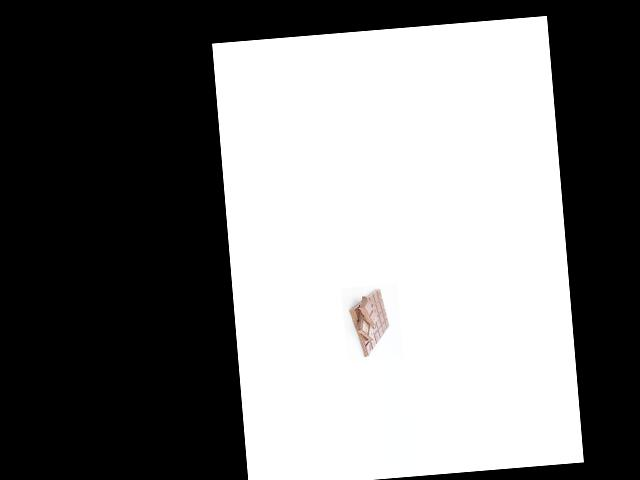chocolate: (344, 287, 395, 359)
